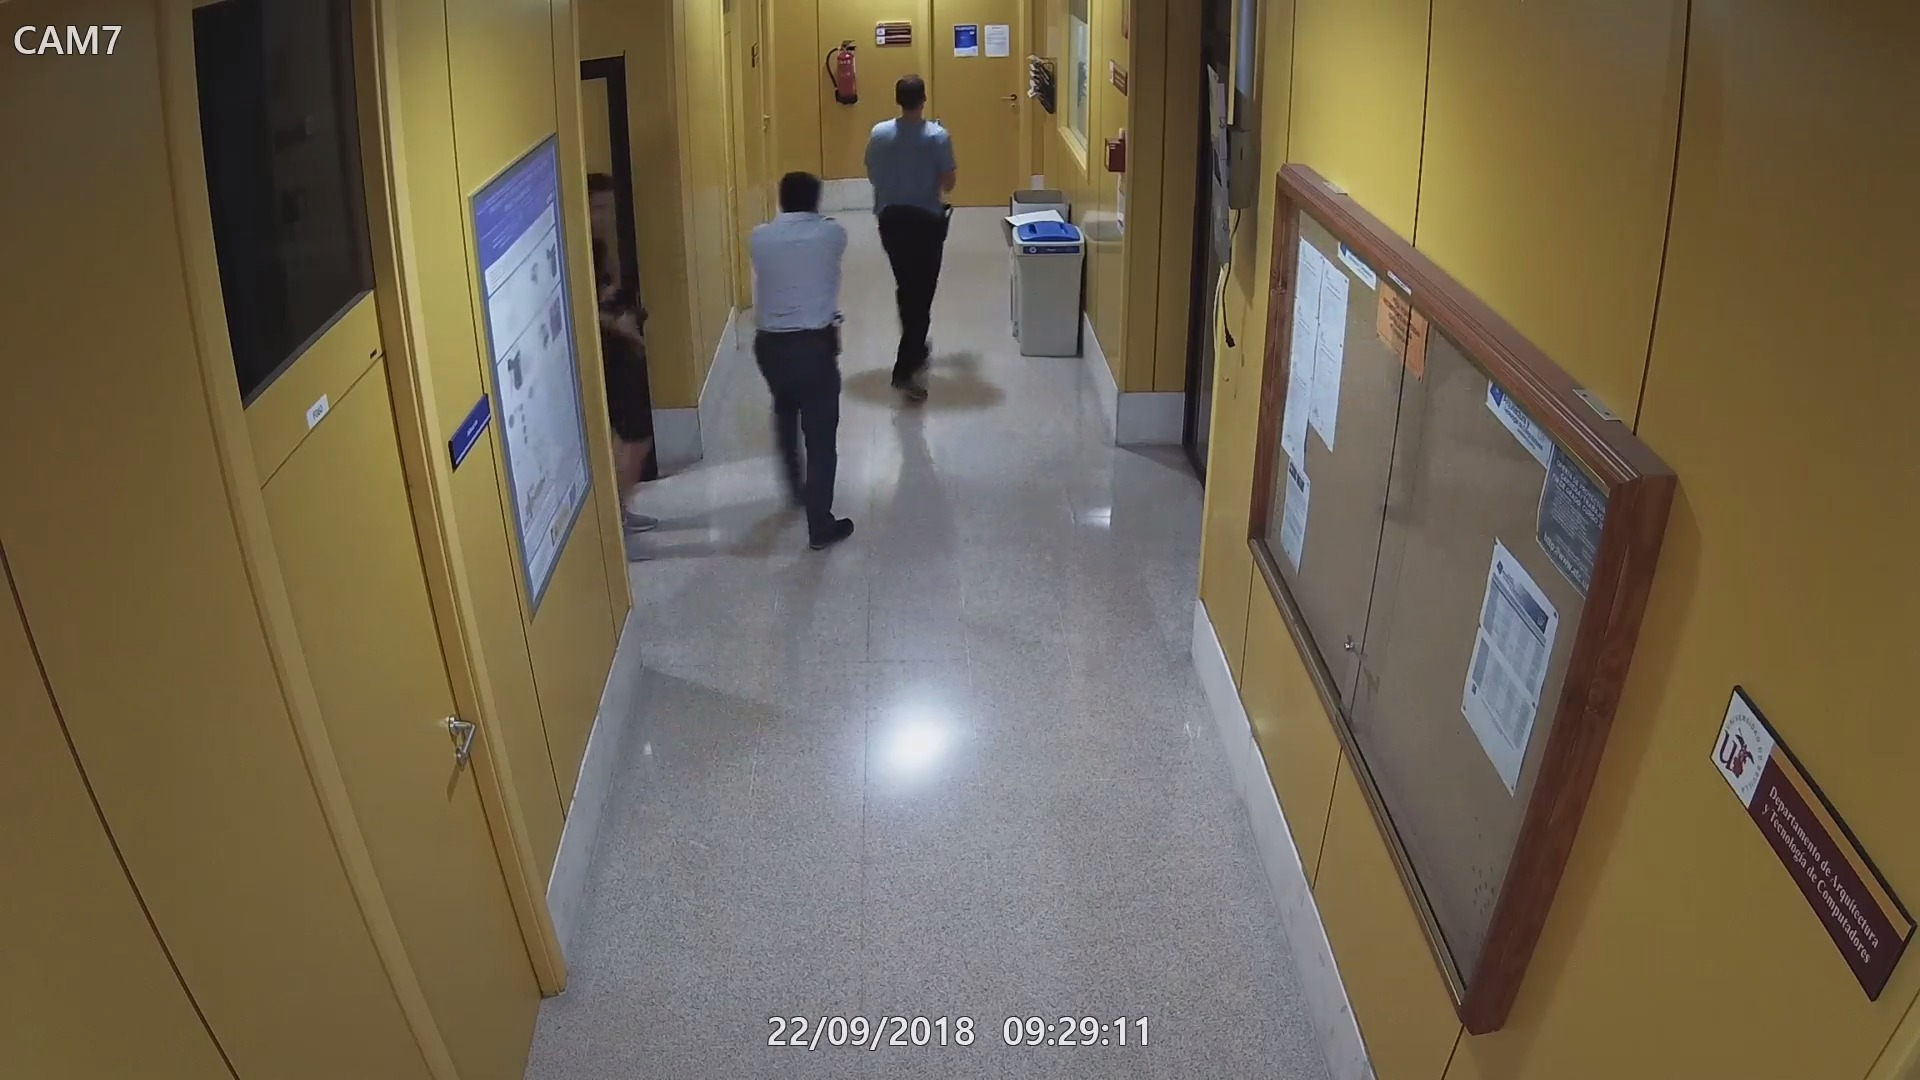Handgun: (617, 297, 650, 348)
